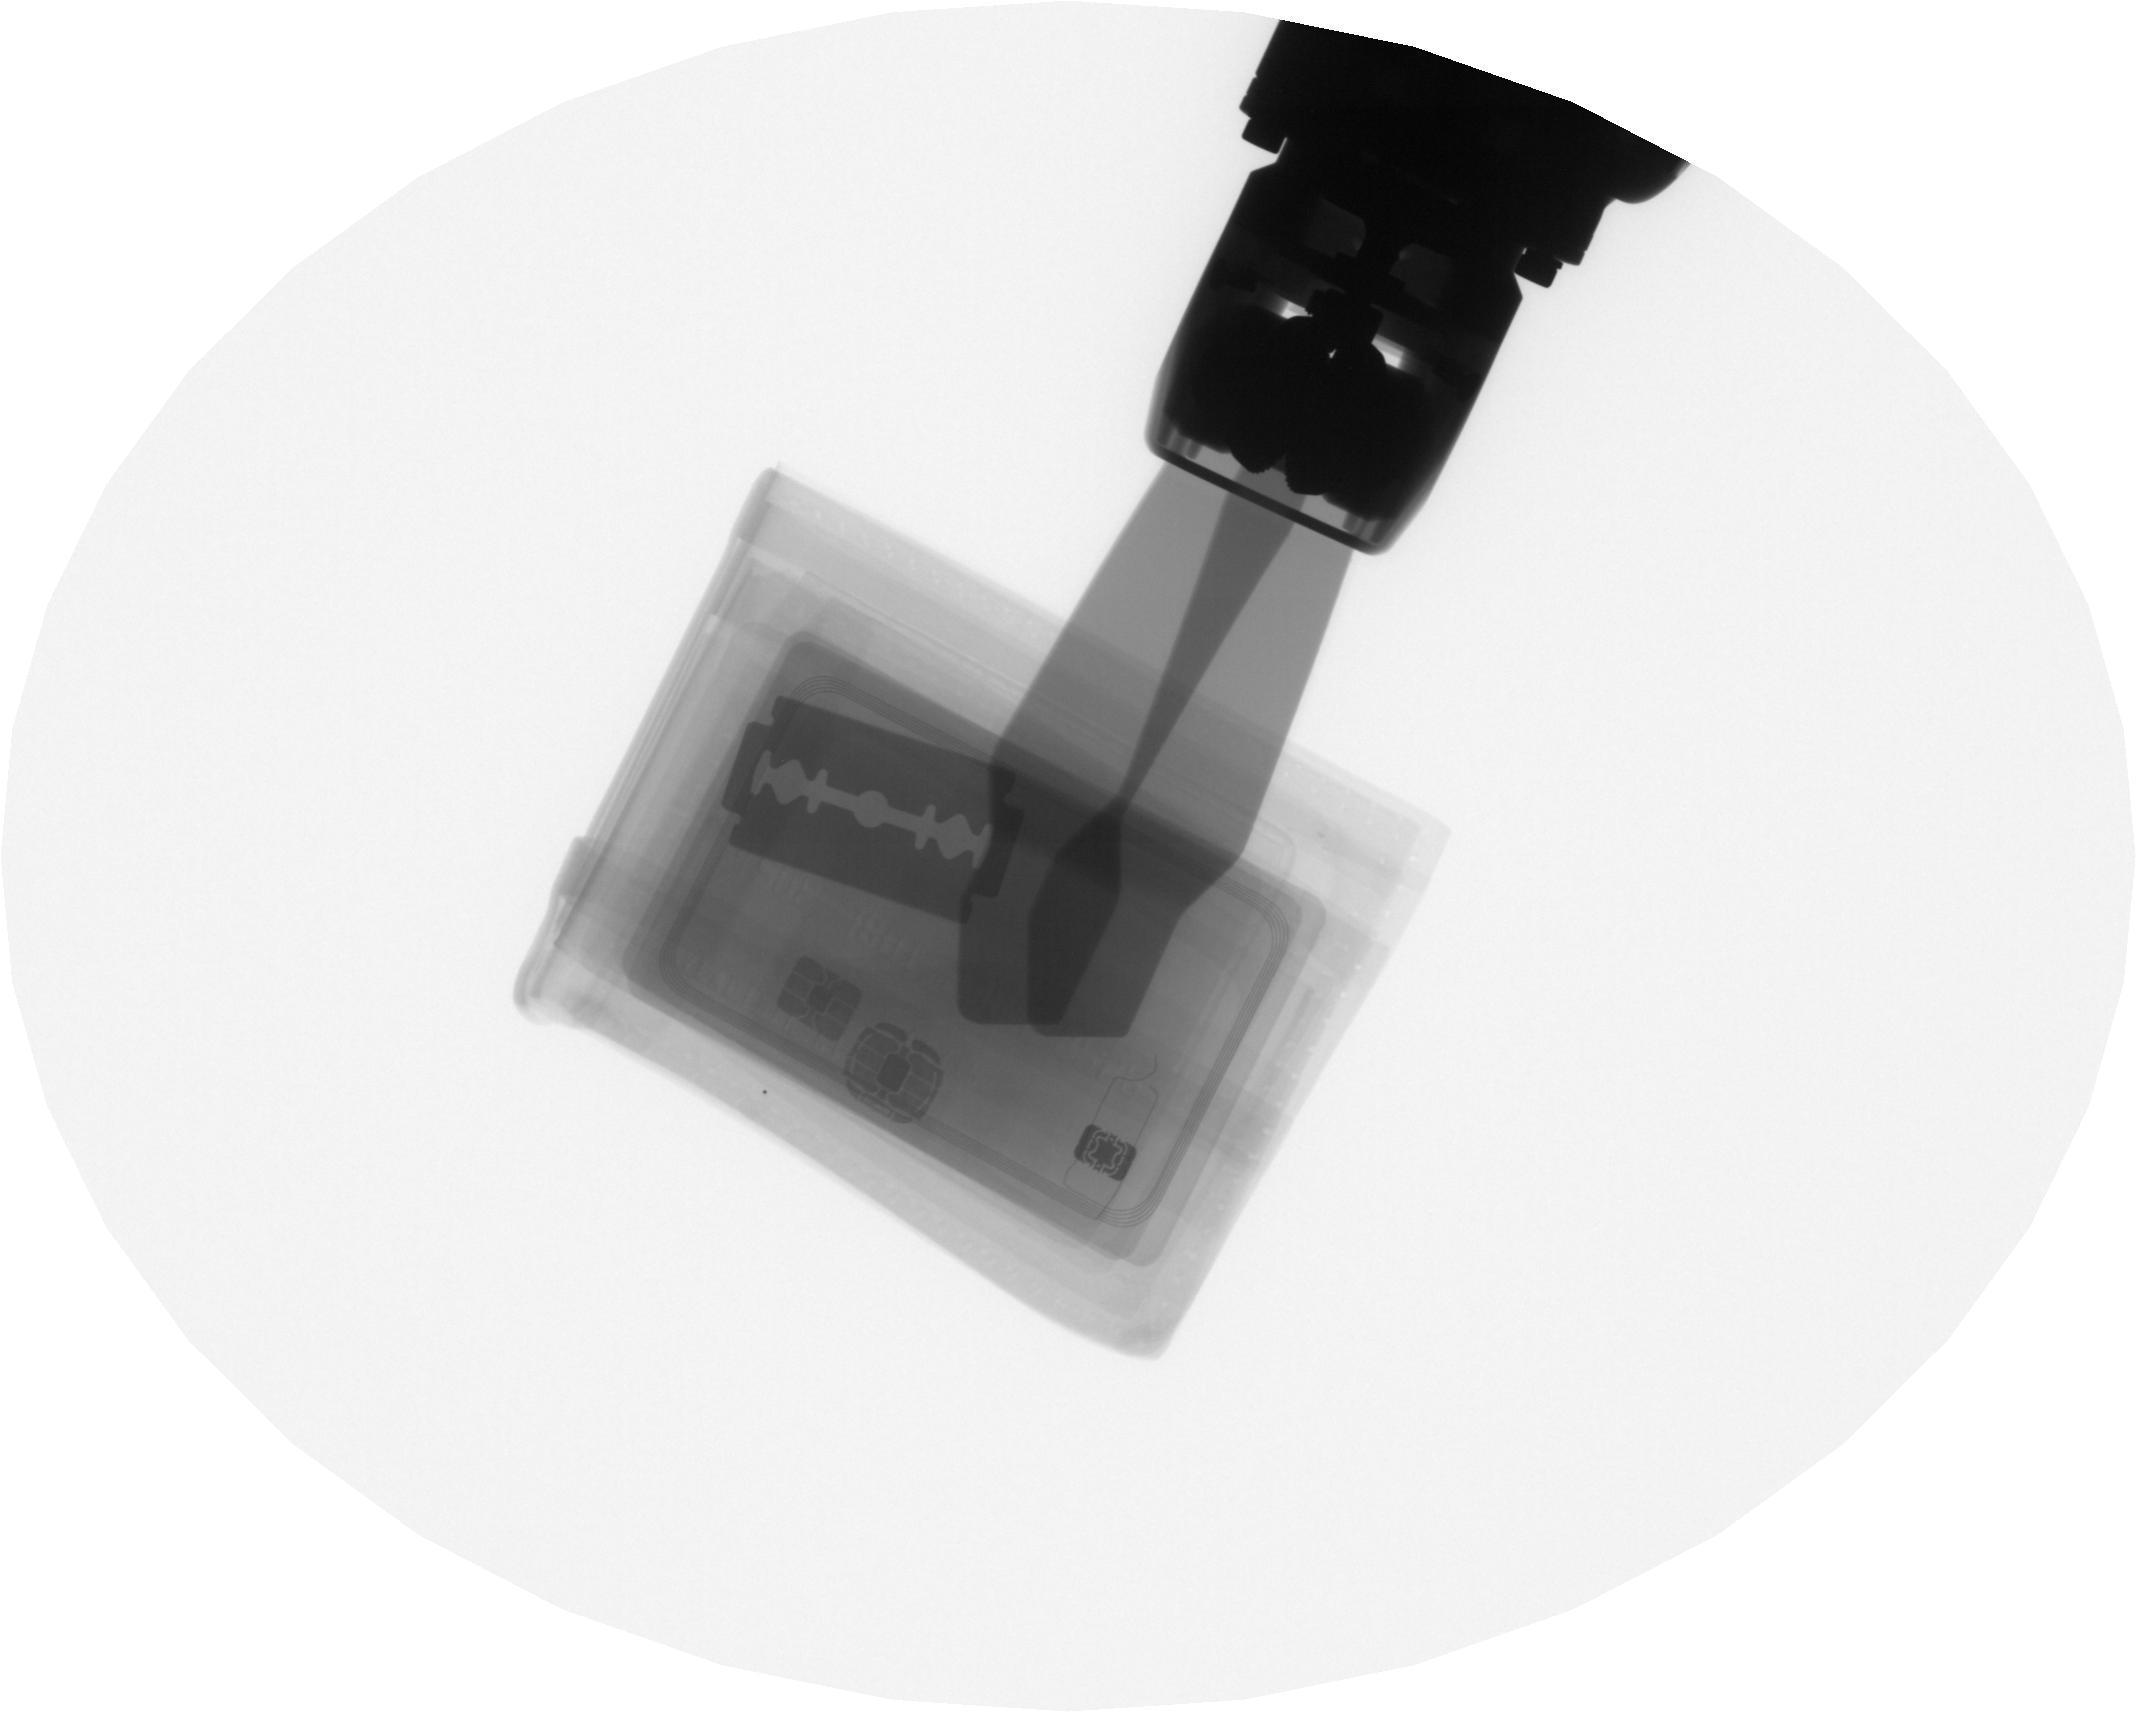RazorBlade: (716, 686, 1031, 933)
